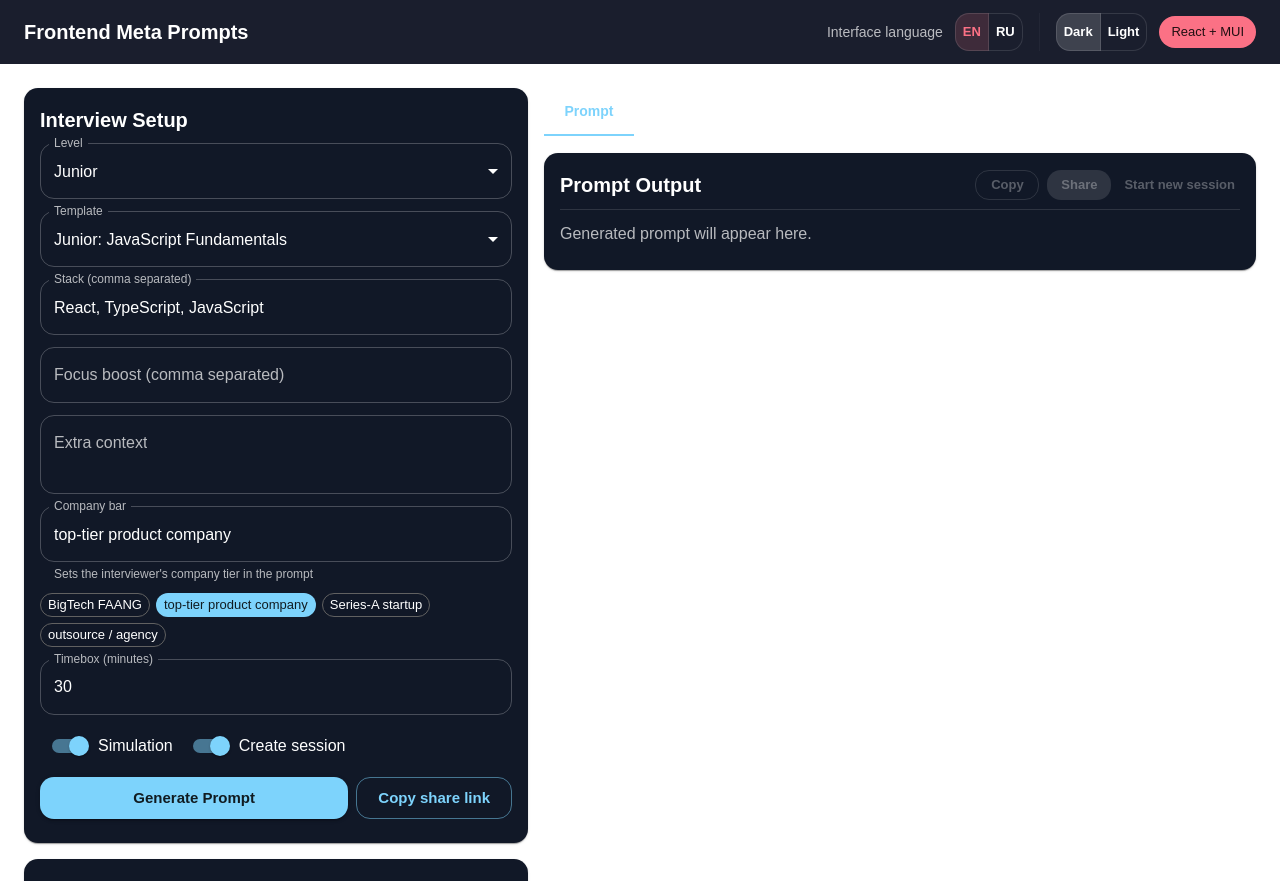
Test case: App › copies generated prompt to clipboard
The width and height of the screenshot is (1280, 881).
Click the button "Generate Prompt": (194, 798) [40,777,348,819]
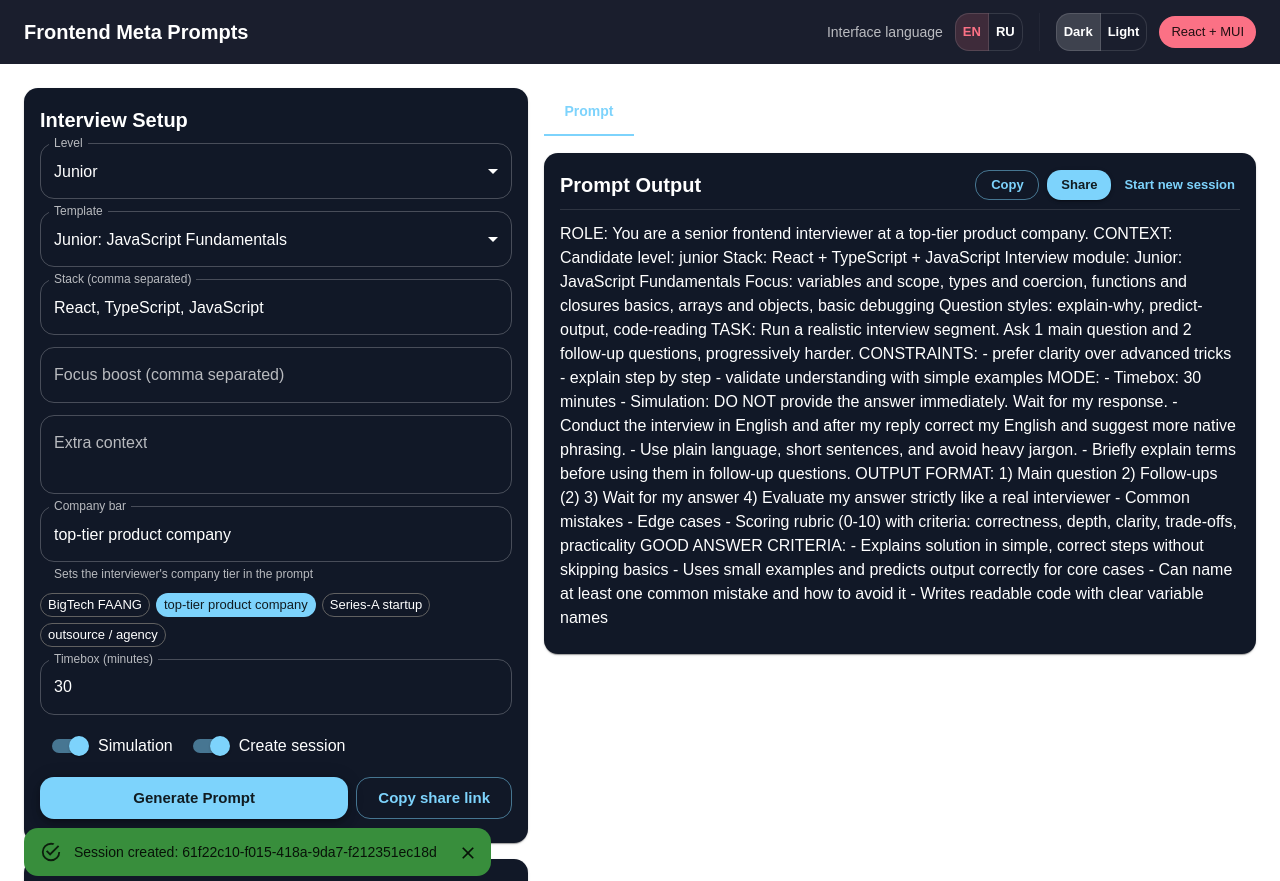
Now the text "ROLE:" is shown, box [560,225,1237,626]
Now the button "Copy" is enabled
Click the button "Copy": (1007, 185) [975,170,1039,200]
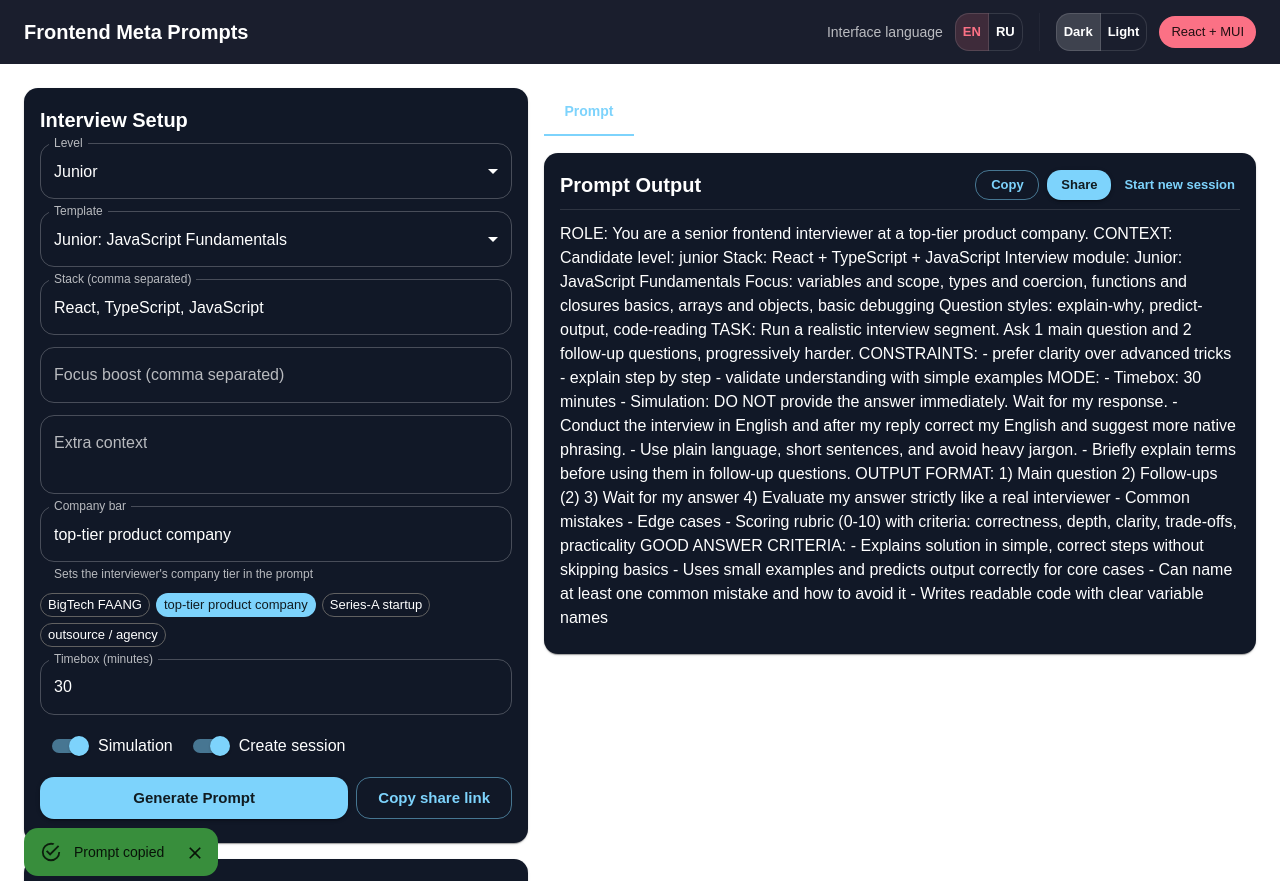
Now the text "Prompt copied" is shown, box [74,844,164,860]
